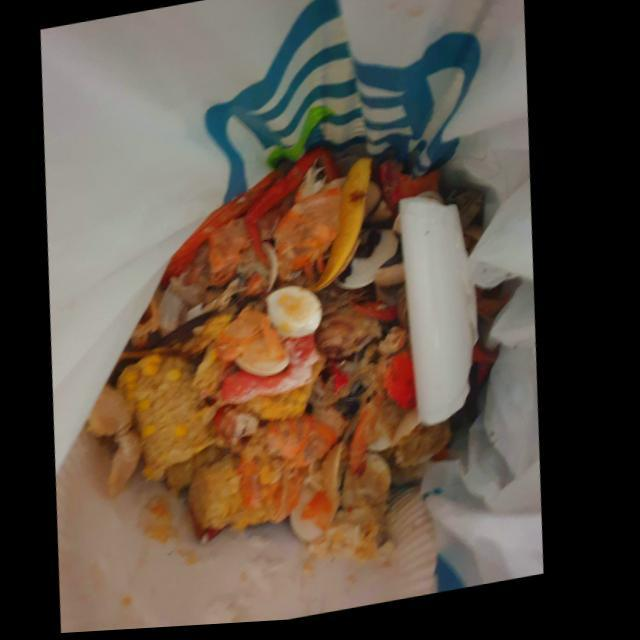left_over_food: (94, 147, 461, 574)
